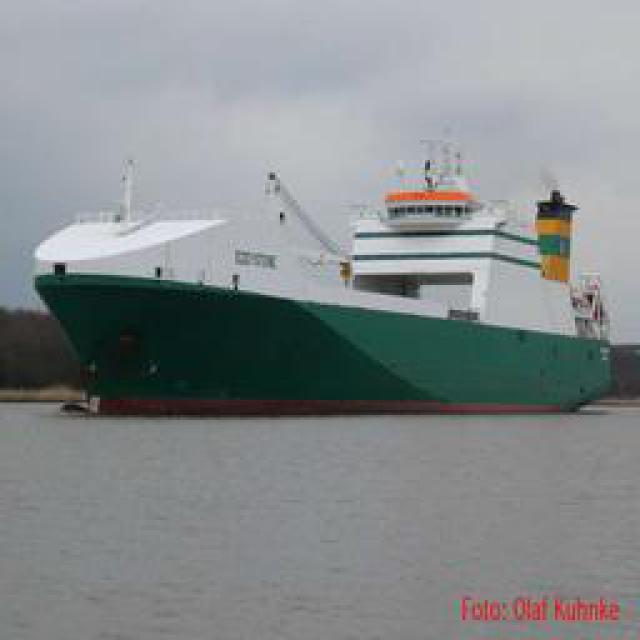Ship: (26, 143, 619, 425)
